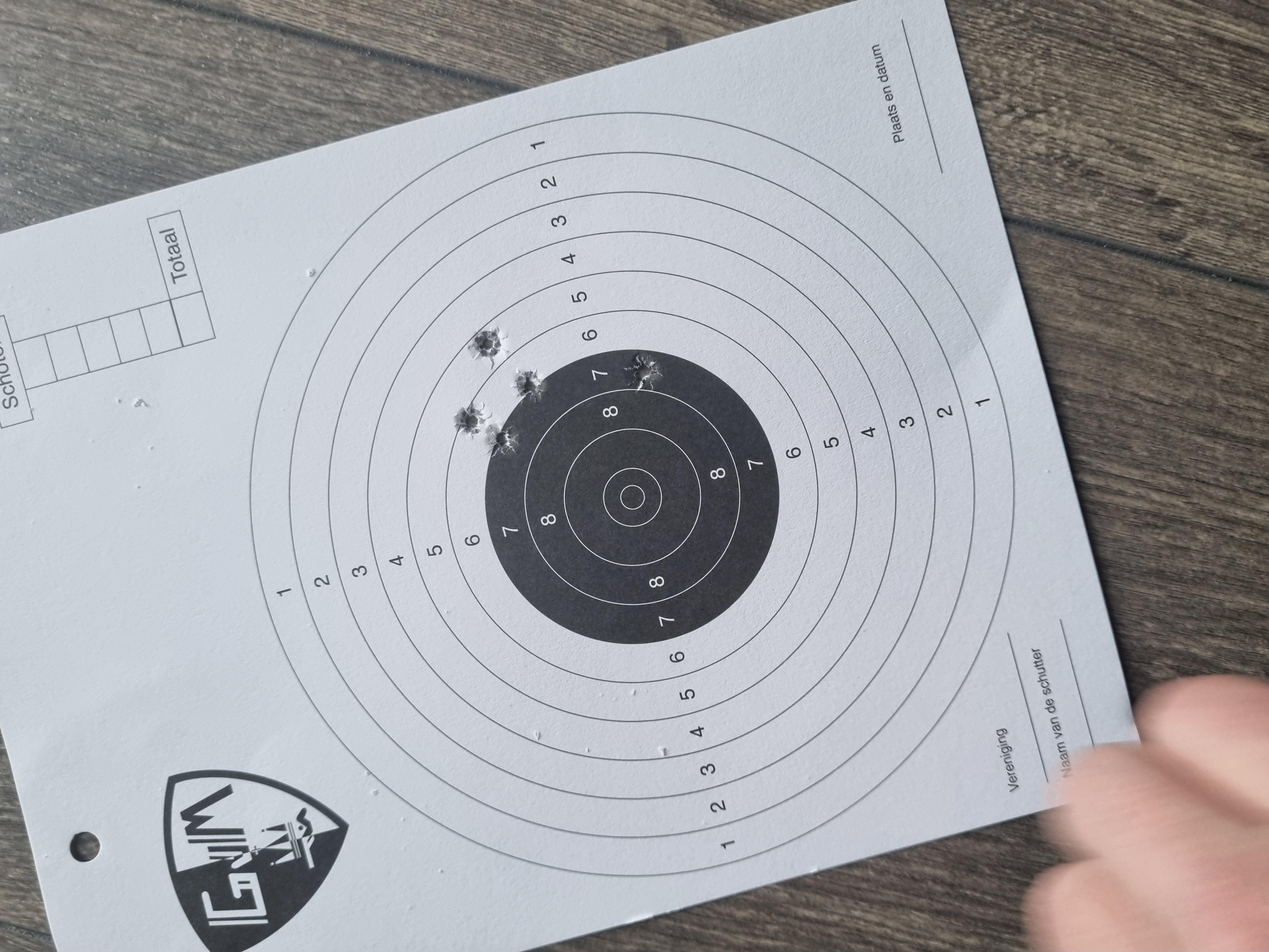hole: (776, 349, 833, 382), (748, 468, 799, 499), (732, 383, 780, 411), (656, 363, 704, 390), (686, 339, 730, 366)
